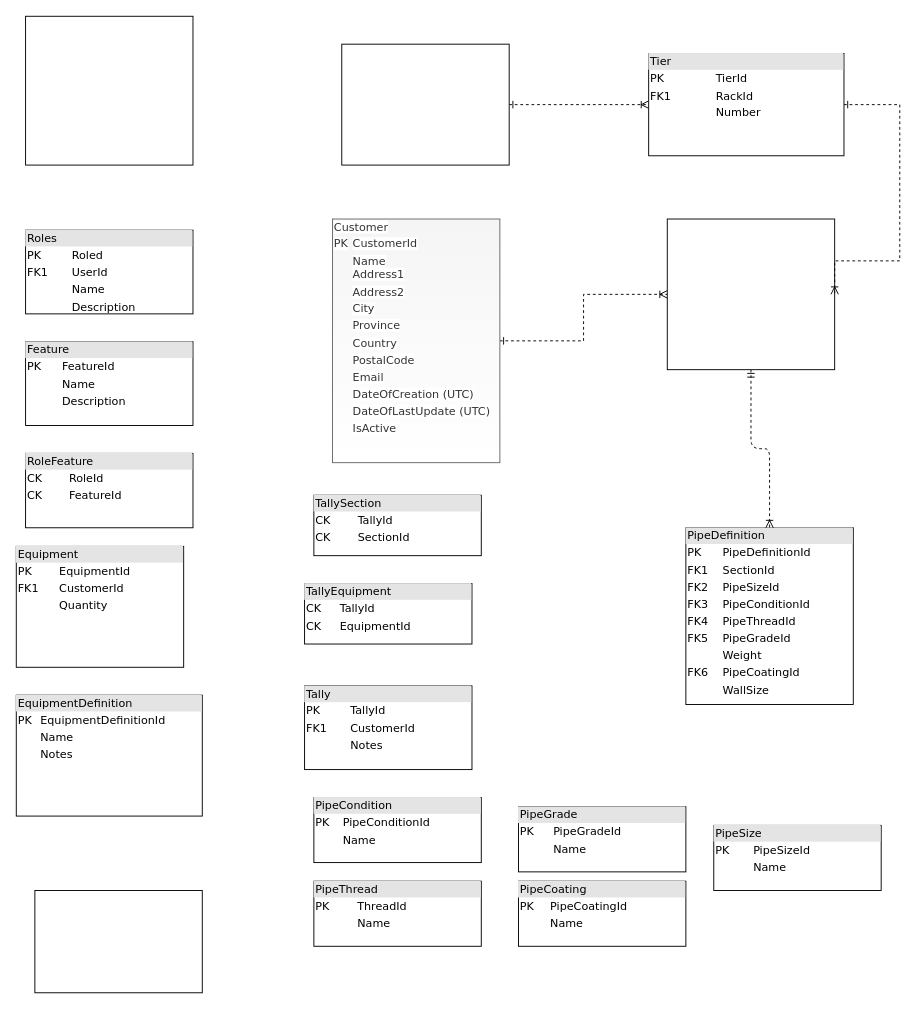
Some shapes in this 924 by 1009 pixel diagram are drawn without their labels. The centre of each missing label's shape, as x and y in pixels:
Rack PK RackId Name: [425,104]
Section PK SectionId FK1 TierId FK2 CustomerId Quantity: [750,294]
Transfer PK TransferId FK1 SellCustomerId FK2 BuyerCustomerId FK3 TallyId: [118,941]
User PK UserId FirstName LastName Email PhoneNumber CellPhoneNumber IsActive: [109,90]
